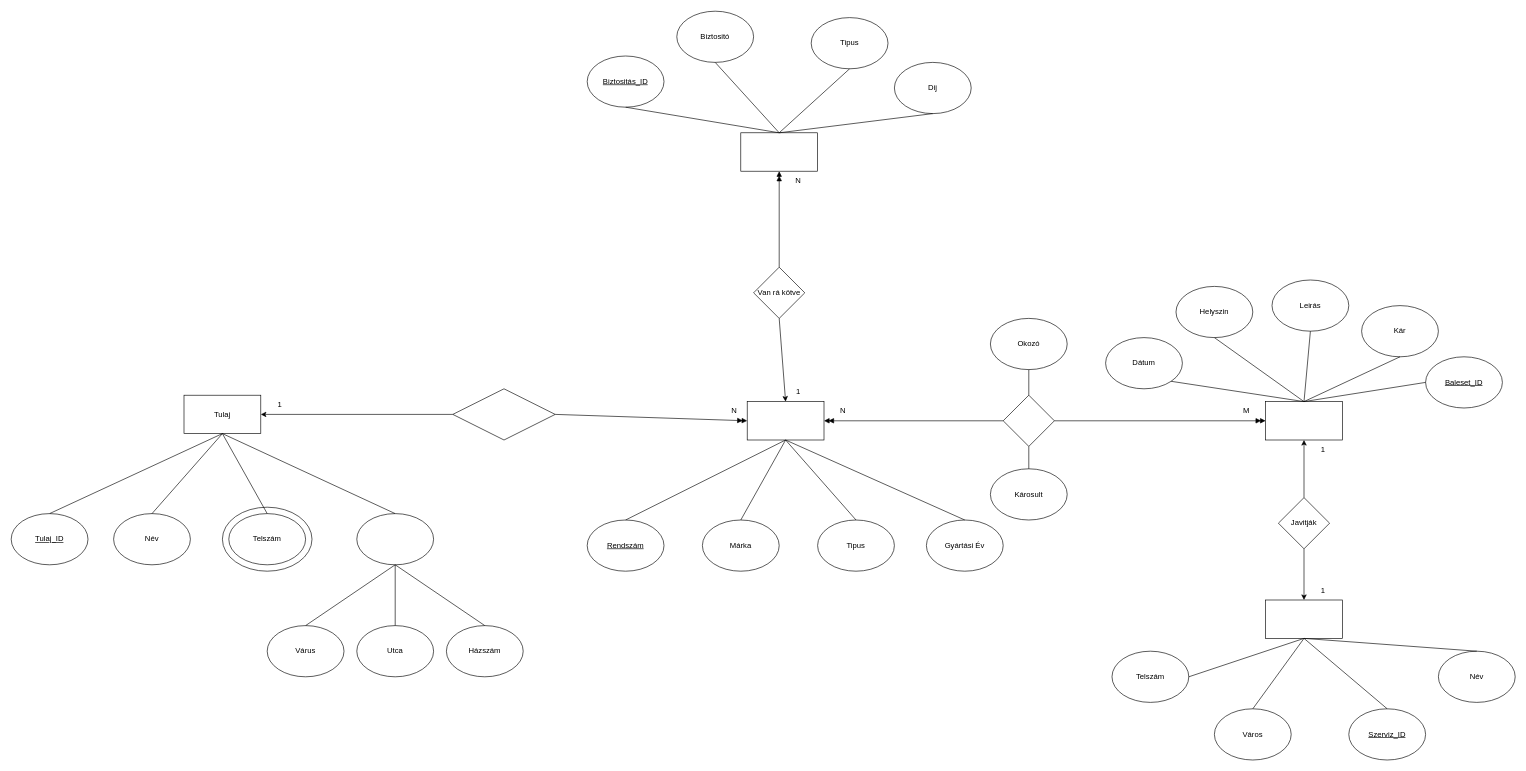
Image size: 1526x771. Some labels were removed from this diagram. Here are the shapes that lost their labels. From the top down, the centre of each, then its label:
pixel 779 151: Biztositás
pixel 503 414: Van neki
pixel 785 420: Autó
pixel 1028 420: Részvétel
pixel 1303 420: Baleset
pixel 395 539: Cim
pixel 1303 618: Szerviz
